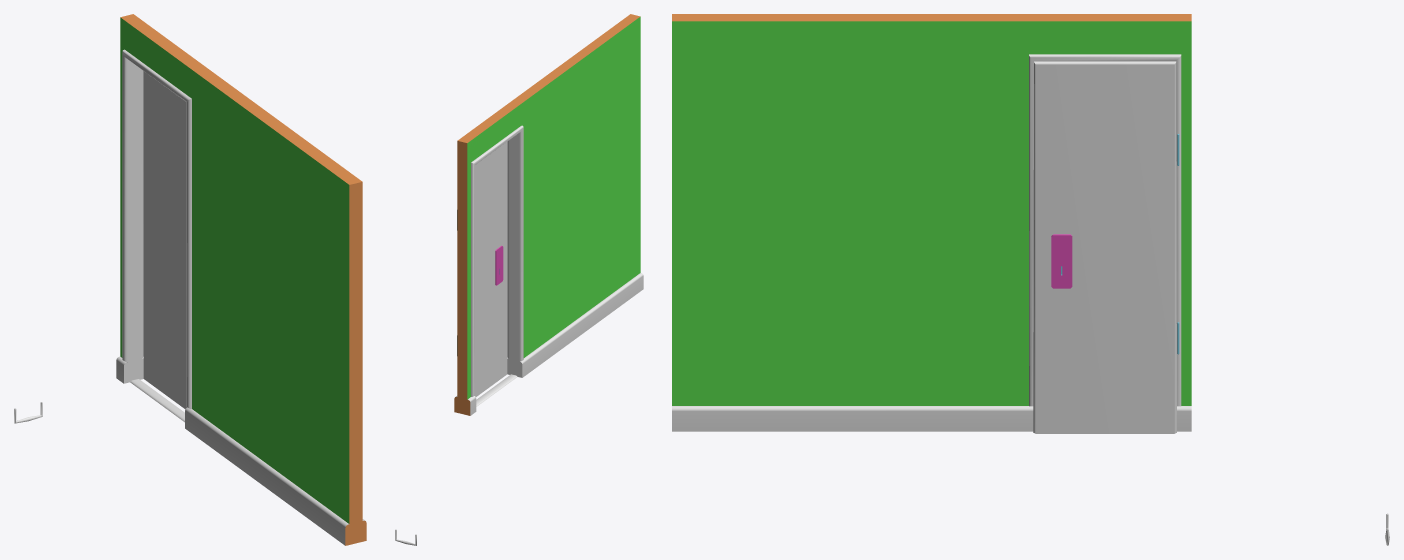
The model's file is wall_door_left.fbx.
3 views of the same model, side by side, from view 1: azimuth 30°, elevation 25°; view 2: azimuth 150°, elevation 25°; view 3: azimuth 270°, elevation 25° (orthographic). The views are drawn at different scales.
Visible parts, largest first — view 1: wall_door_left, door.002; view 2: wall_door_left, door.002; view 3: wall_door_left, door.002.
Boxes of the visible parts, x1,y1,x2,y2 form: wall_door_left: (116,14,366,545); door.002: (143,71,186,409); wall_door_left: (454,14,643,415); door.002: (457,142,507,396); wall_door_left: (672,14,1191,431); door.002: (1033,61,1179,433).
Size of the model in its own units: 0.3175 by 3.36 by 4.14.
